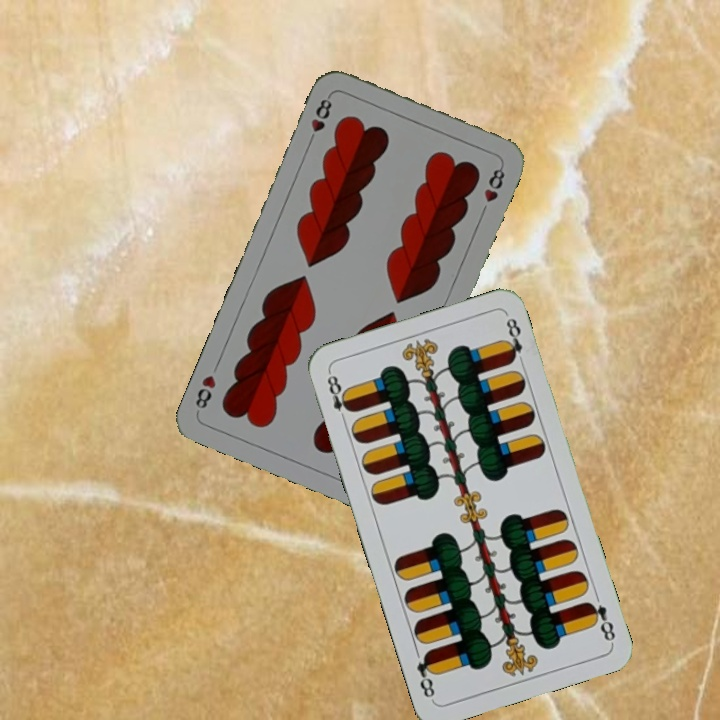E8: (323, 368, 355, 426), (582, 597, 618, 645)
H8: (304, 91, 335, 148)
